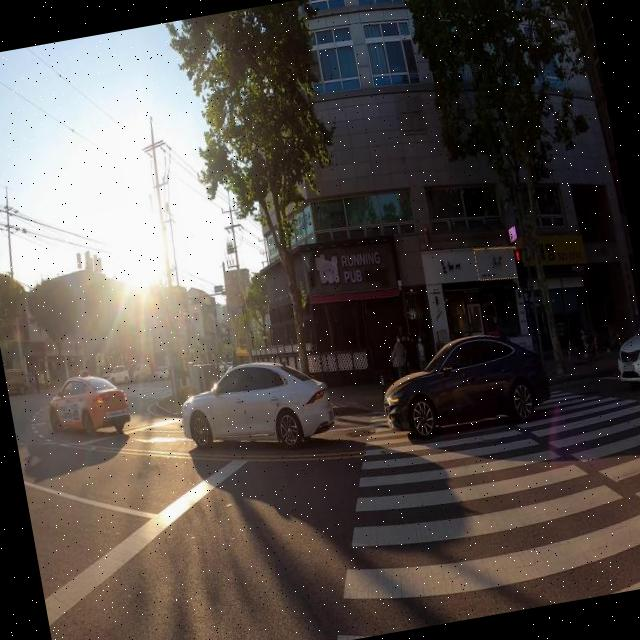crosswalk: (337, 388, 640, 640), (58, 383, 187, 400)
